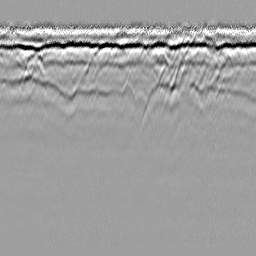cavity: (116, 78, 141, 126)
